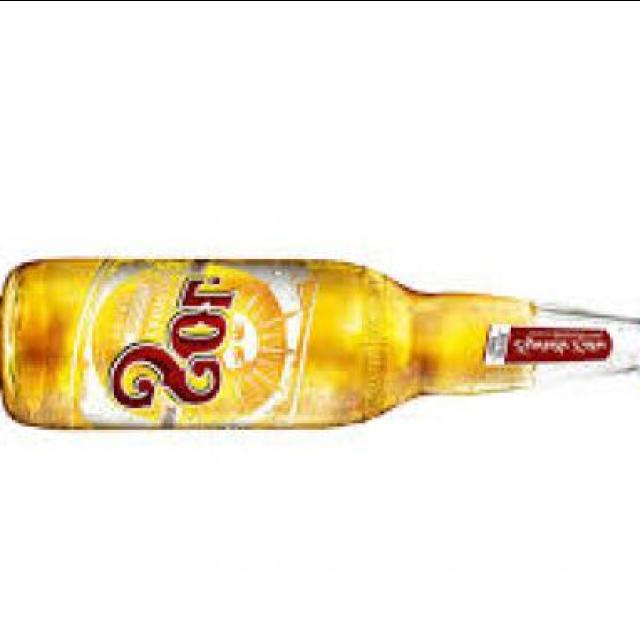kaca: (0, 258, 640, 436)
